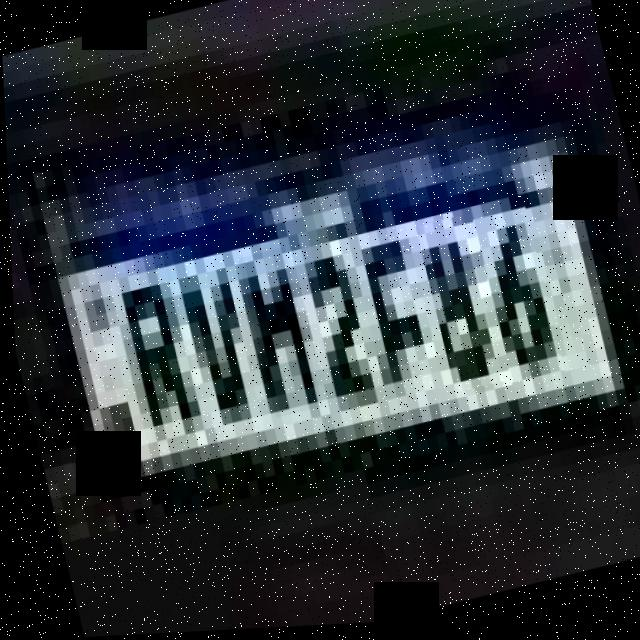6: (470, 208, 564, 397)
8: (417, 218, 501, 398)
F: (354, 234, 440, 406)
H: (235, 249, 319, 422)
R: (109, 261, 205, 449)
V: (176, 266, 262, 439)
